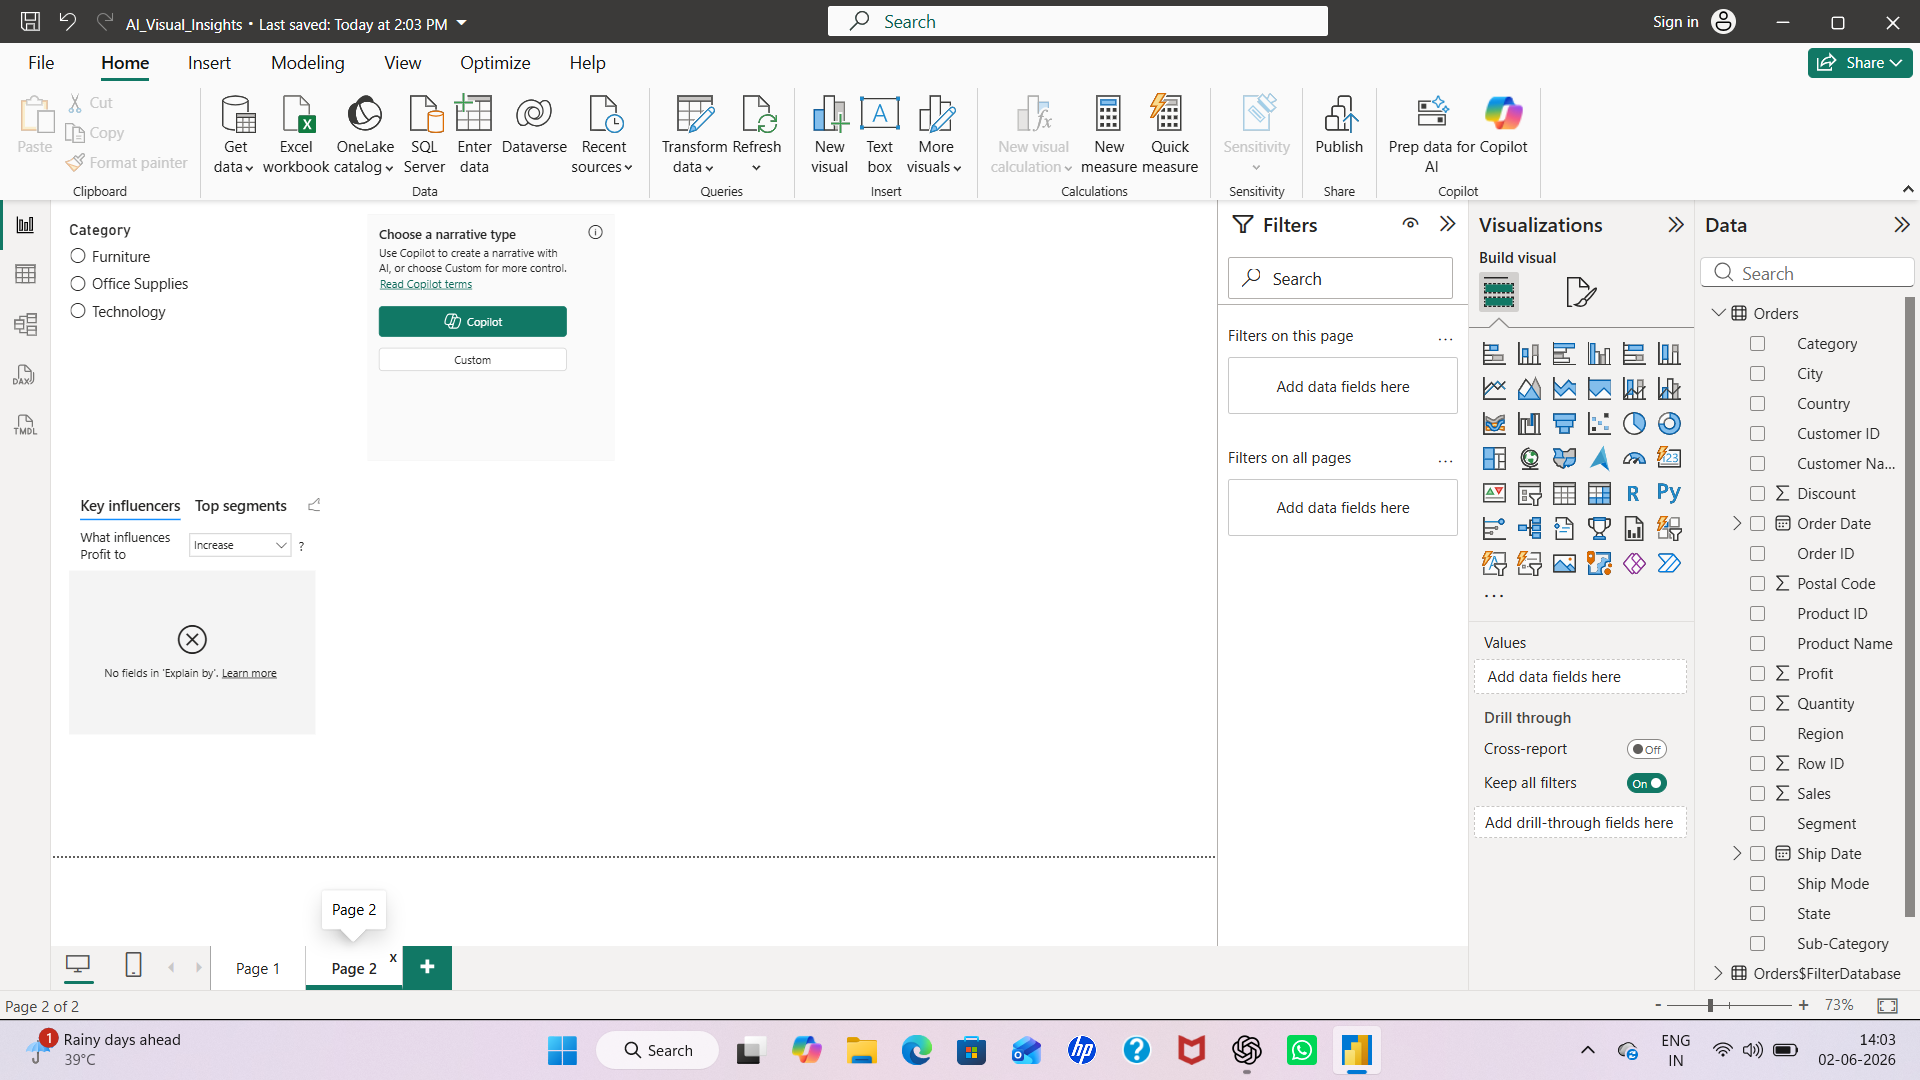

The dashboard page shown, as its layout file describes it:
{"tool":"powerbi","page":{"name":"Page 2","canvas":[1280,720],"ordinal":1},"visuals":[{"type":"listSlicer","fields":{"Values":["Orders.Category"]},"box":[15.1,22,279.9,279.9],"z":0},{"type":"keyDriversVisual","fields":{"Target":["Orders.Profit"]},"box":[15,312,280,280],"z":1},{"type":"textbox","box":[305,22,280,280],"z":2},{"type":"aiNarratives","box":[343.1,11,279.9,279.9],"z":3}]}

Visuals, with their boxes on the page's 1280x720 design canvas (x1, y1, x2, y2). These are canvas units, not pixel positions in the 1920x1080 screenshot, which may show the page scaled, cropped or inside an application window:
listSlicer - Orders.Category: bbox(15, 22, 295, 302)
keyDriversVisual - Orders.Profit: bbox(15, 312, 295, 592)
textbox: bbox(305, 22, 585, 302)
aiNarratives: bbox(343, 11, 623, 291)
